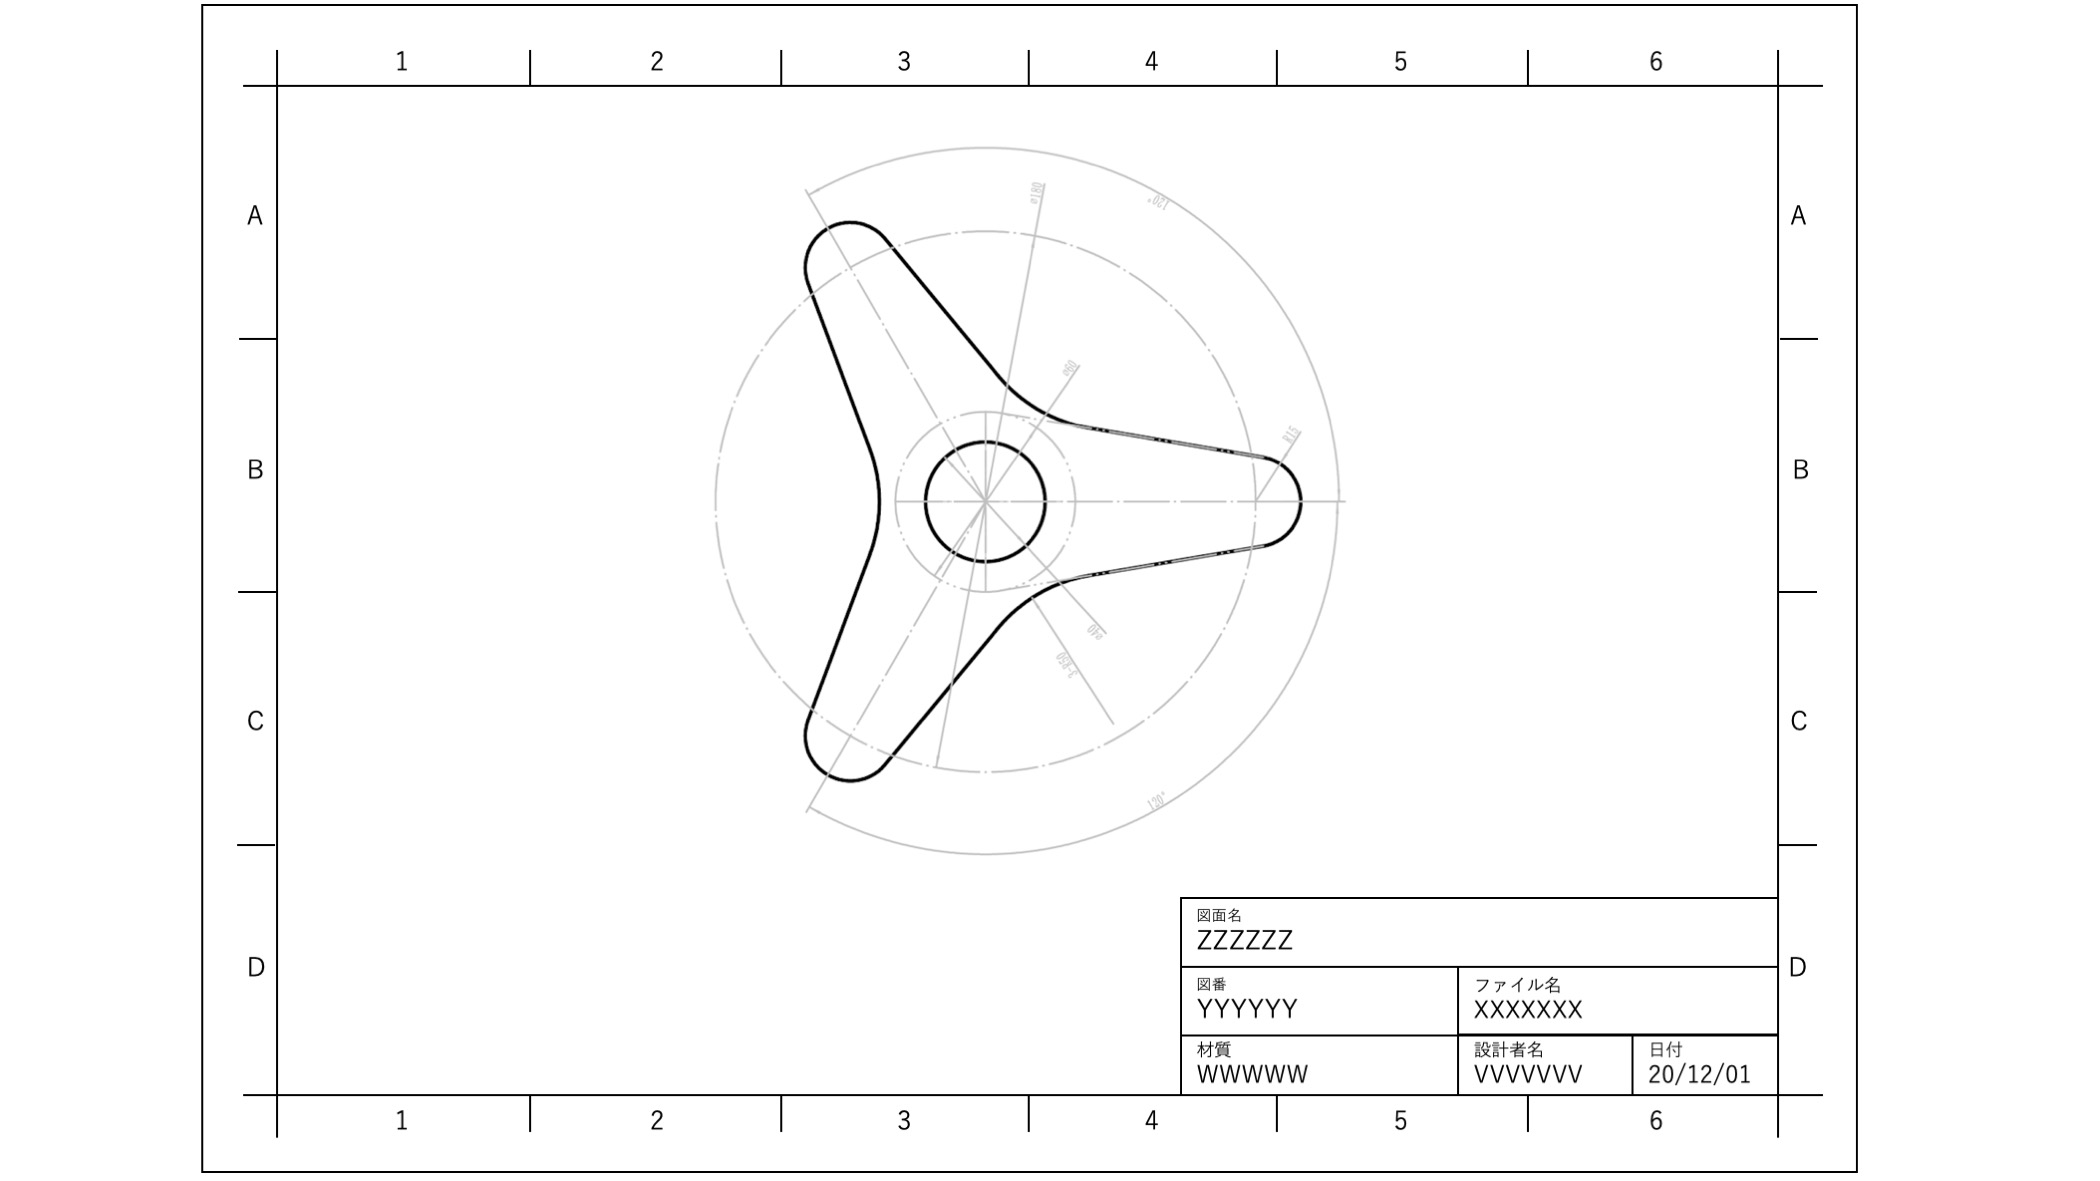circle: (904, 435, 1060, 567)
